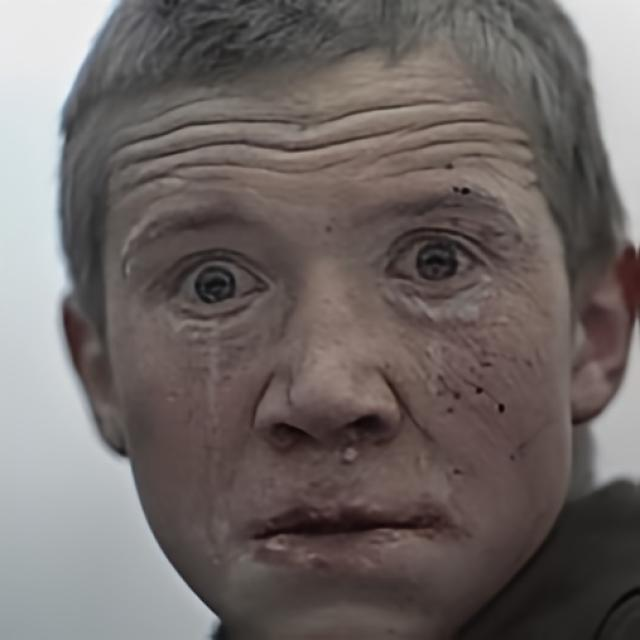fear: (100, 40, 572, 640)
